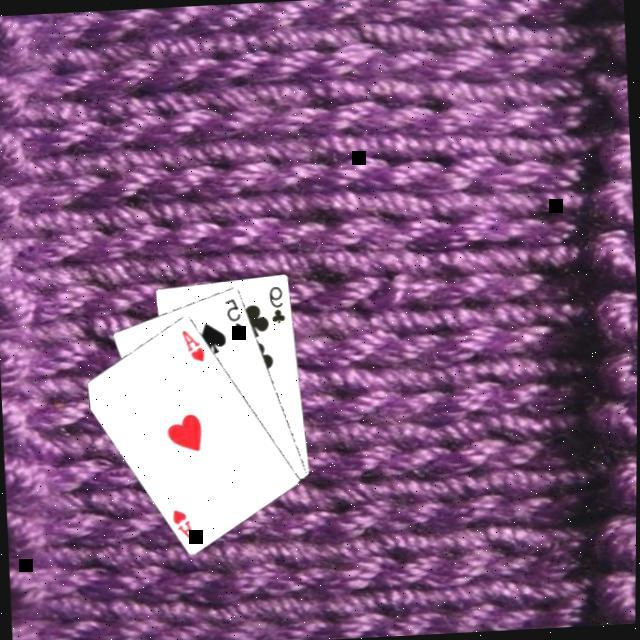5S: (223, 296, 251, 341)
9C: (267, 284, 289, 329)
AH: (179, 327, 209, 368), (171, 508, 201, 547)
